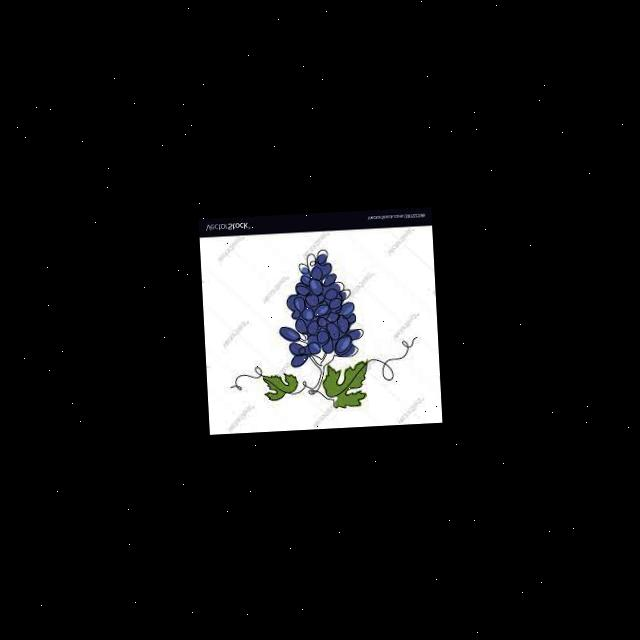grape: (274, 247, 364, 368)
